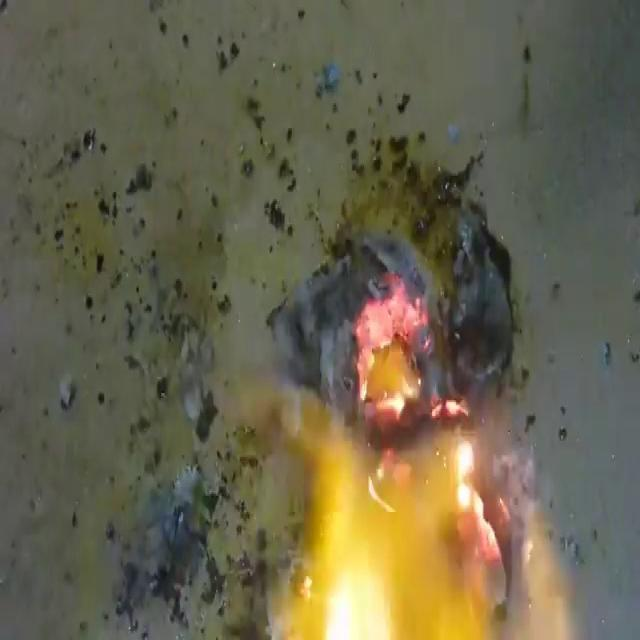Fire: (220, 138, 573, 640)
